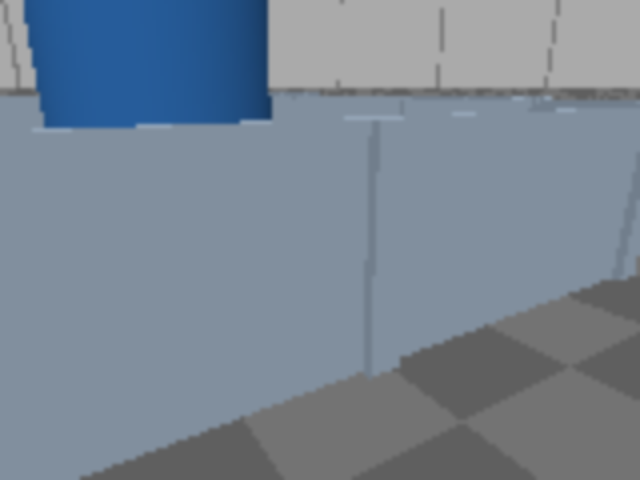person: (0, 0, 267, 339)
traffic_light: (625, 61, 638, 470)
